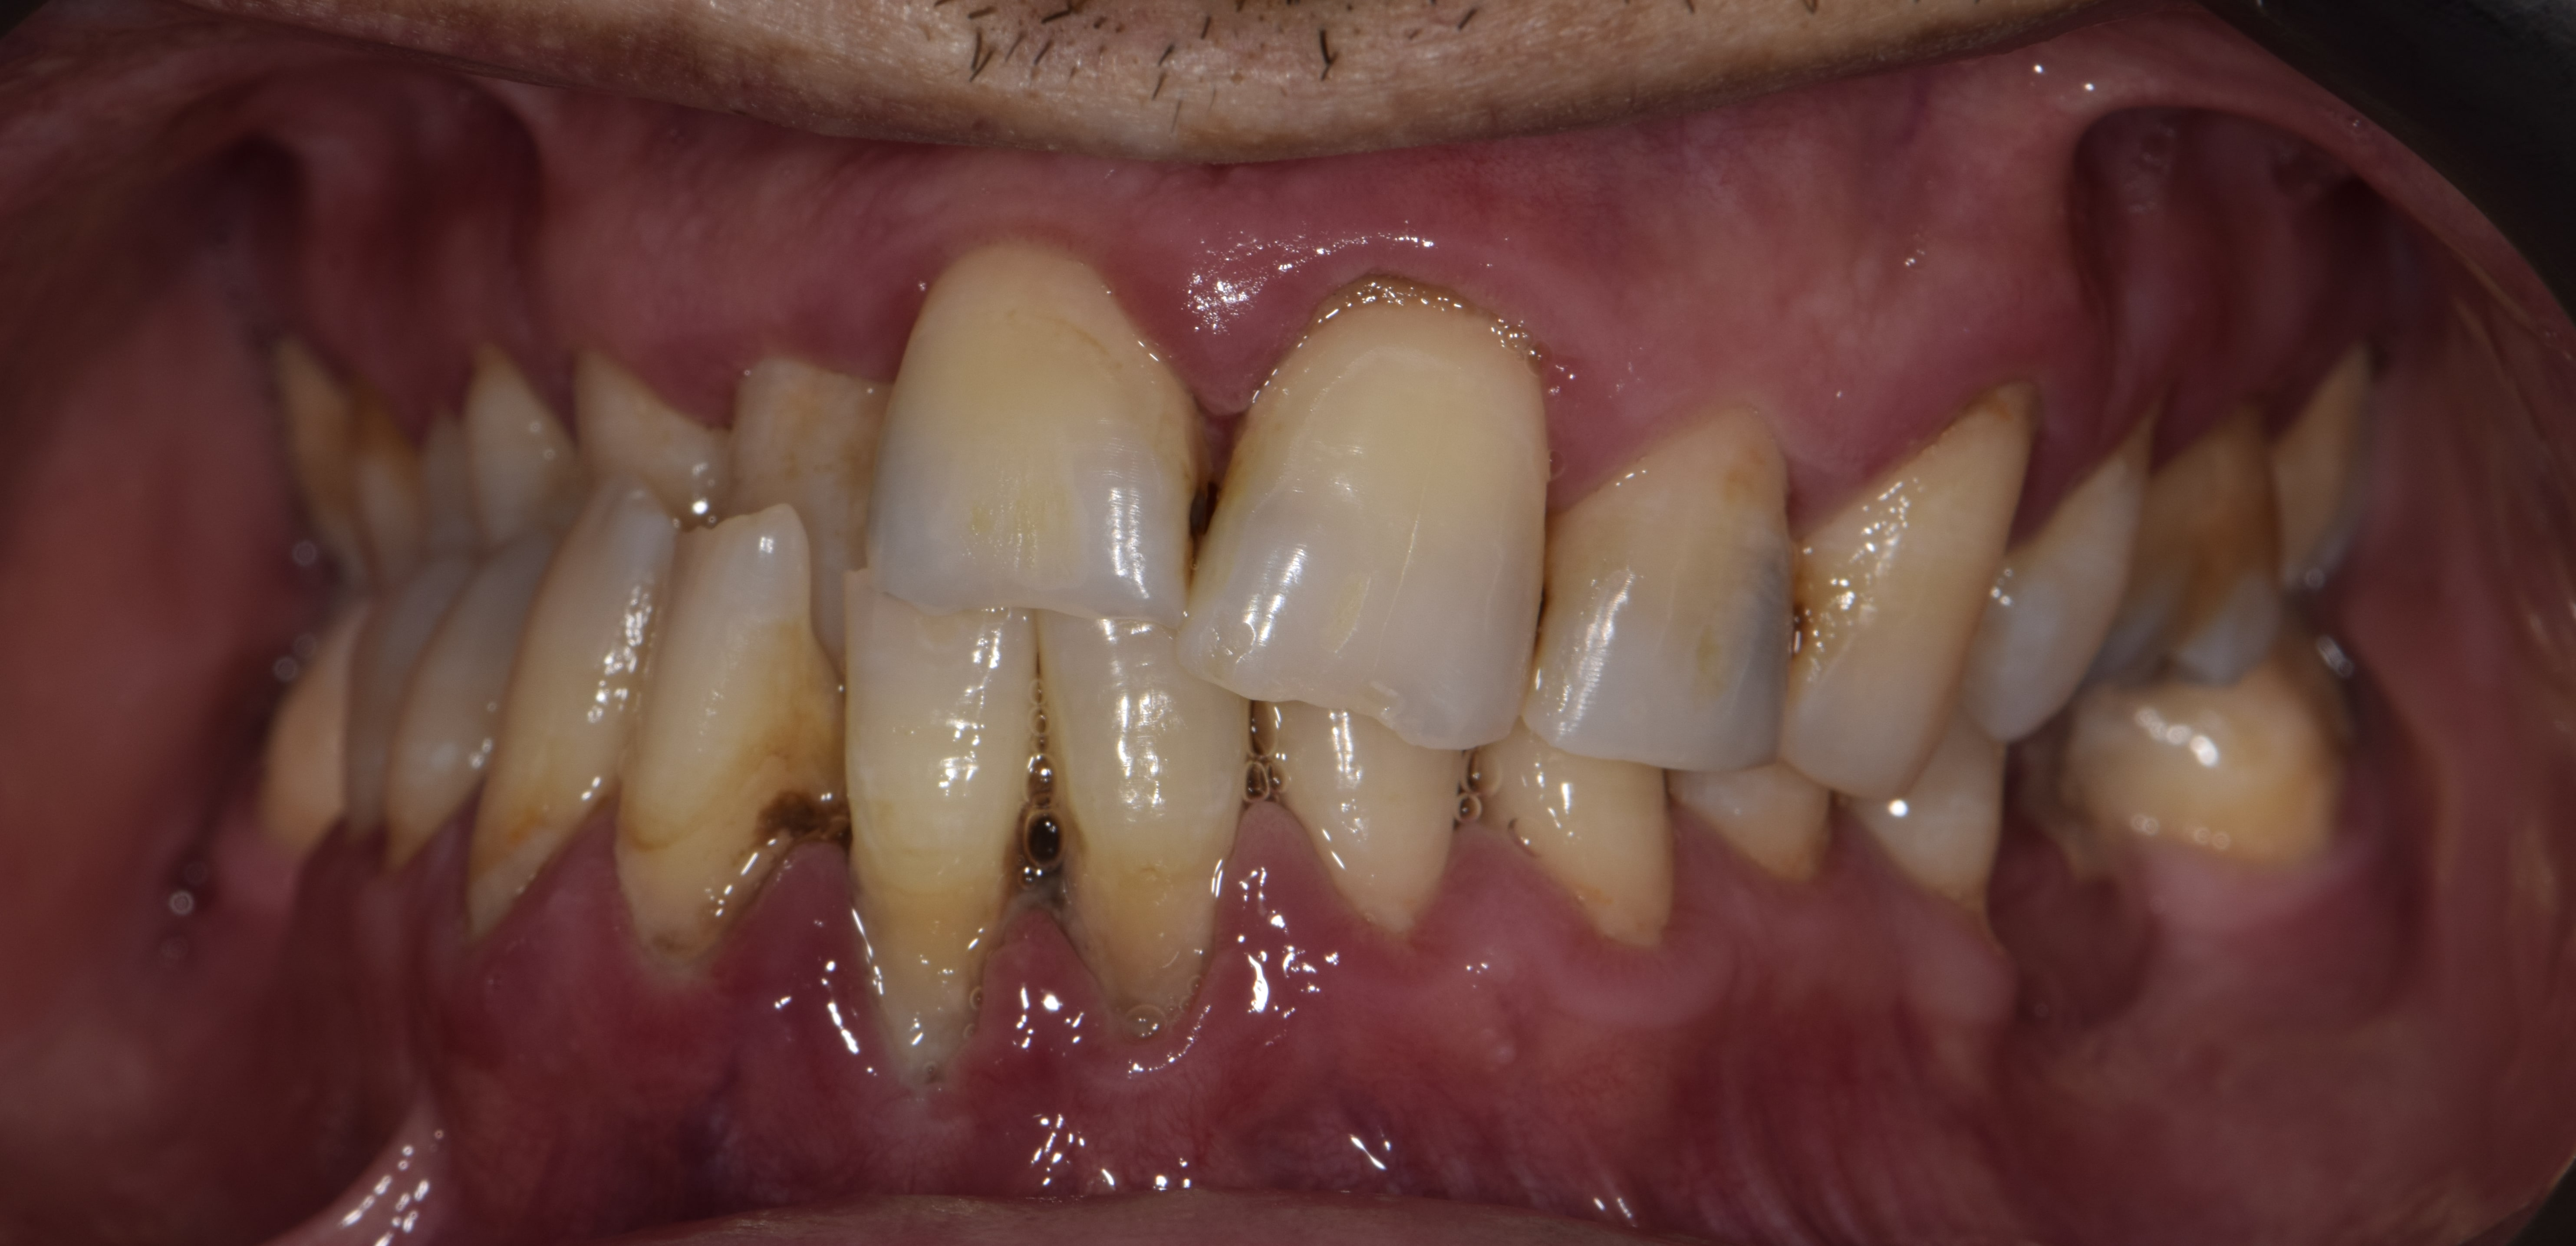LR1BC_healthy: (481, 492, 659, 903)
LRCI_healthy: (1032, 609, 1249, 1039)
LRC_decay: (636, 497, 838, 959)
LRLI_healthy: (830, 599, 1025, 1019)
UL1BC_healthy: (1998, 401, 2154, 757)
UL2BC_decay: (2141, 405, 2305, 681)
ULCI_healthy: (1221, 292, 1556, 757)
ULC_healthy: (1804, 391, 2022, 793)
ULLI_healthy: (1541, 397, 1802, 776)
URCI_healthy: (849, 250, 1191, 648)
